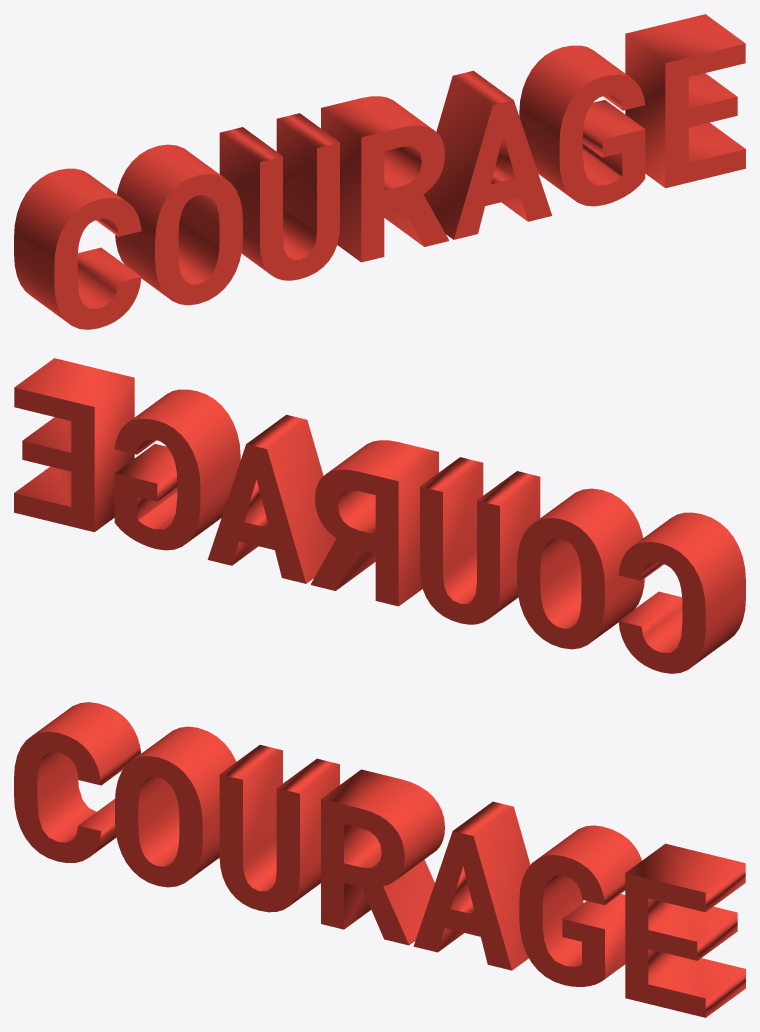
File: Courage.fbx
3 renders of one model, top to bottom at view 1: azimuth 30°, elevation 25°; view 2: azimuth 150°, elevation 25°; view 3: azimuth 330°, elevation 25°, orthographic.
Parts seen in each view (by area): view 1: $ColladaAutoName$_1; view 2: $ColladaAutoName$_1; view 3: $ColladaAutoName$_1.
Boxes of the visible parts, left/top/right/bottom form: $ColladaAutoName$_1: left=14, top=14, right=745, bottom=329; $ColladaAutoName$_1: left=14, top=358, right=745, bottom=673; $ColladaAutoName$_1: left=14, top=702, right=745, bottom=1017.
Bounding box in the file's own units: 571 × 102 × 57.5.
